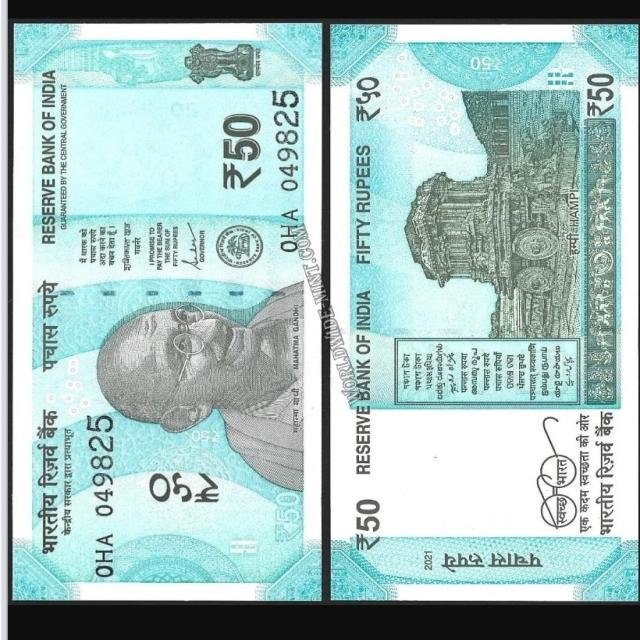50IndianRupees: (332, 29, 640, 600)
